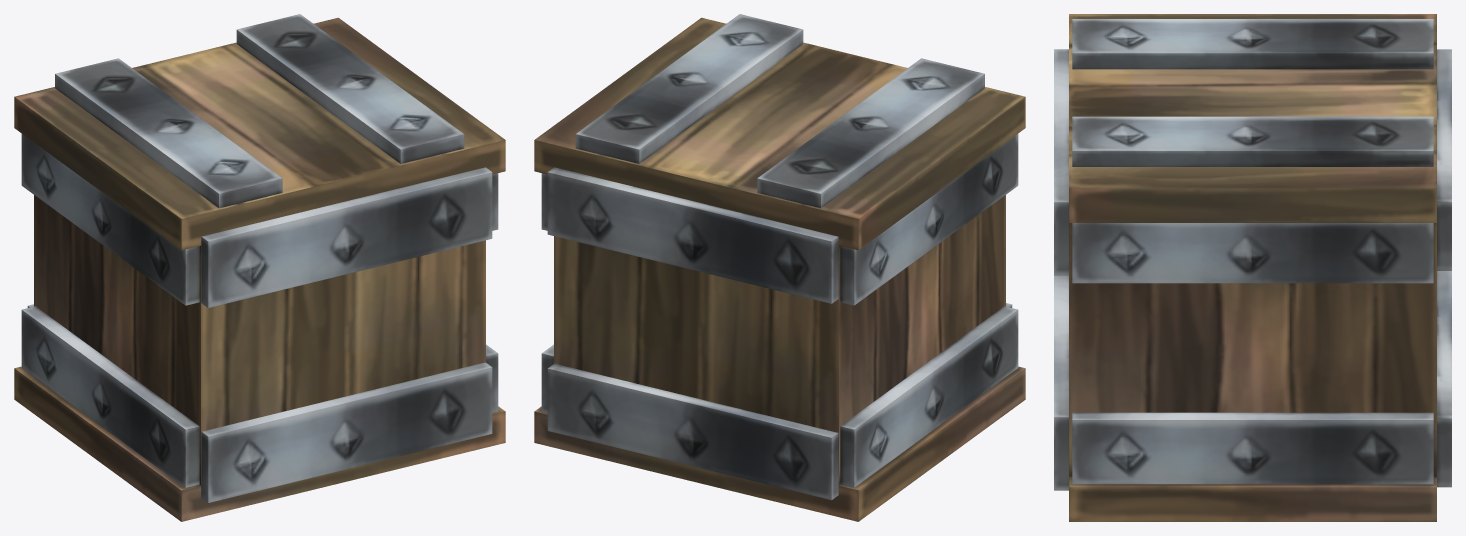
Rendered from crate_02.FBX.
3 renders of one model, left to right at view 1: azimuth 30°, elevation 25°; view 2: azimuth 150°, elevation 25°; view 3: azimuth 270°, elevation 25°, orthographic. The views are drawn at different scales.
Visible parts, largest first — view 1: crate_02; view 2: crate_02; view 3: crate_02.
Boxes of the visible parts, x1,y1,x2,y2 form: crate_02: [14, 14, 505, 521]; crate_02: [534, 14, 1025, 521]; crate_02: [1054, 14, 1451, 521].
Size of the model in its own units: 37.37 by 34.97 by 36.06.
